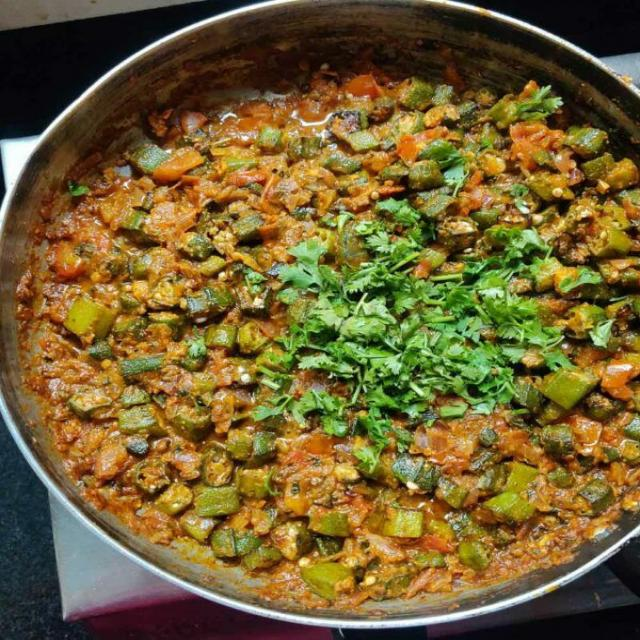BhindiMasala: (15, 54, 640, 612)
